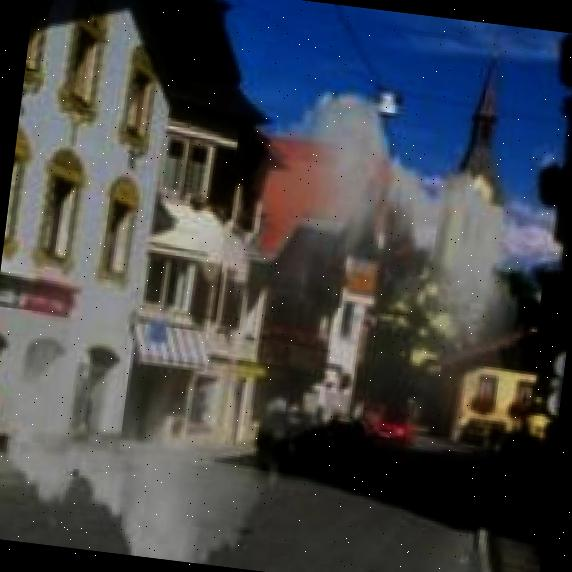smoke: (0, 32, 555, 572)
